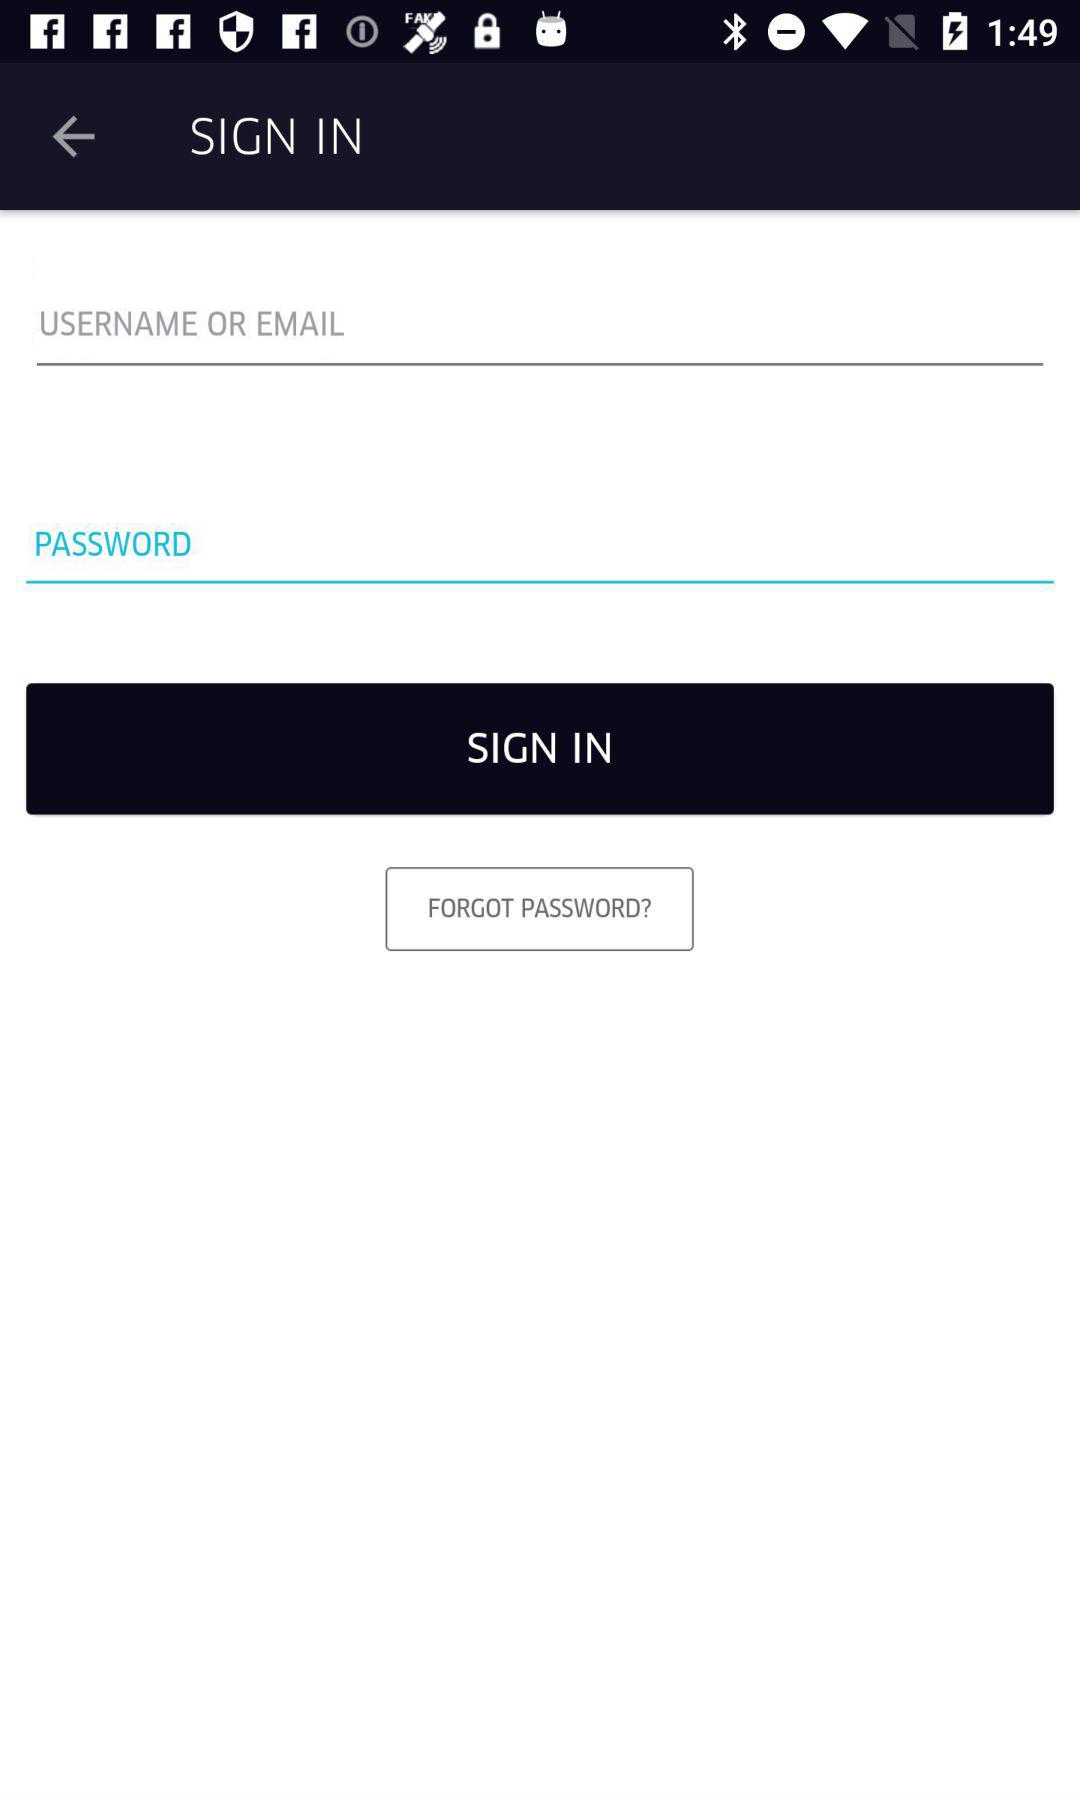EditText: (37, 310, 1044, 366), (27, 531, 1054, 586)
Icon: (53, 115, 97, 160)
Text: (41, 311, 346, 337), (191, 117, 363, 158), (36, 532, 192, 559)
TextButton: (26, 683, 1054, 816), (386, 868, 694, 952)
Toolbar: (3, 65, 1080, 211)
UpperTaskBar: (1, 1, 1080, 64)
